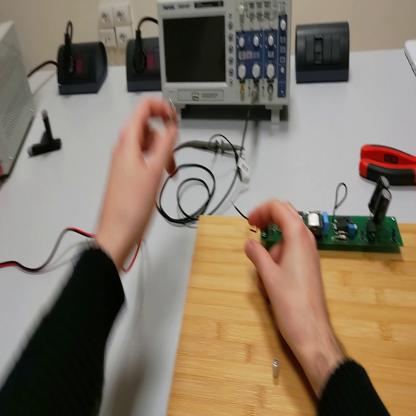hand: (245, 197, 331, 360), (103, 92, 178, 248)
high voltage board: (233, 173, 406, 253)
oscilloscope: (157, 2, 292, 124)
oscilloscope probe tip: (189, 141, 247, 155)
pliers: (360, 144, 416, 187)
power supply: (2, 17, 37, 180)
socket: (56, 42, 109, 101), (127, 35, 164, 94)
working area: (167, 216, 416, 415)
